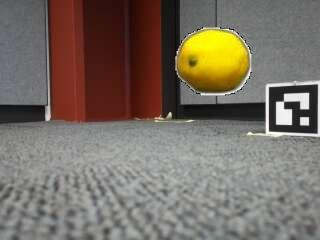lemon: (180, 31, 251, 94)
